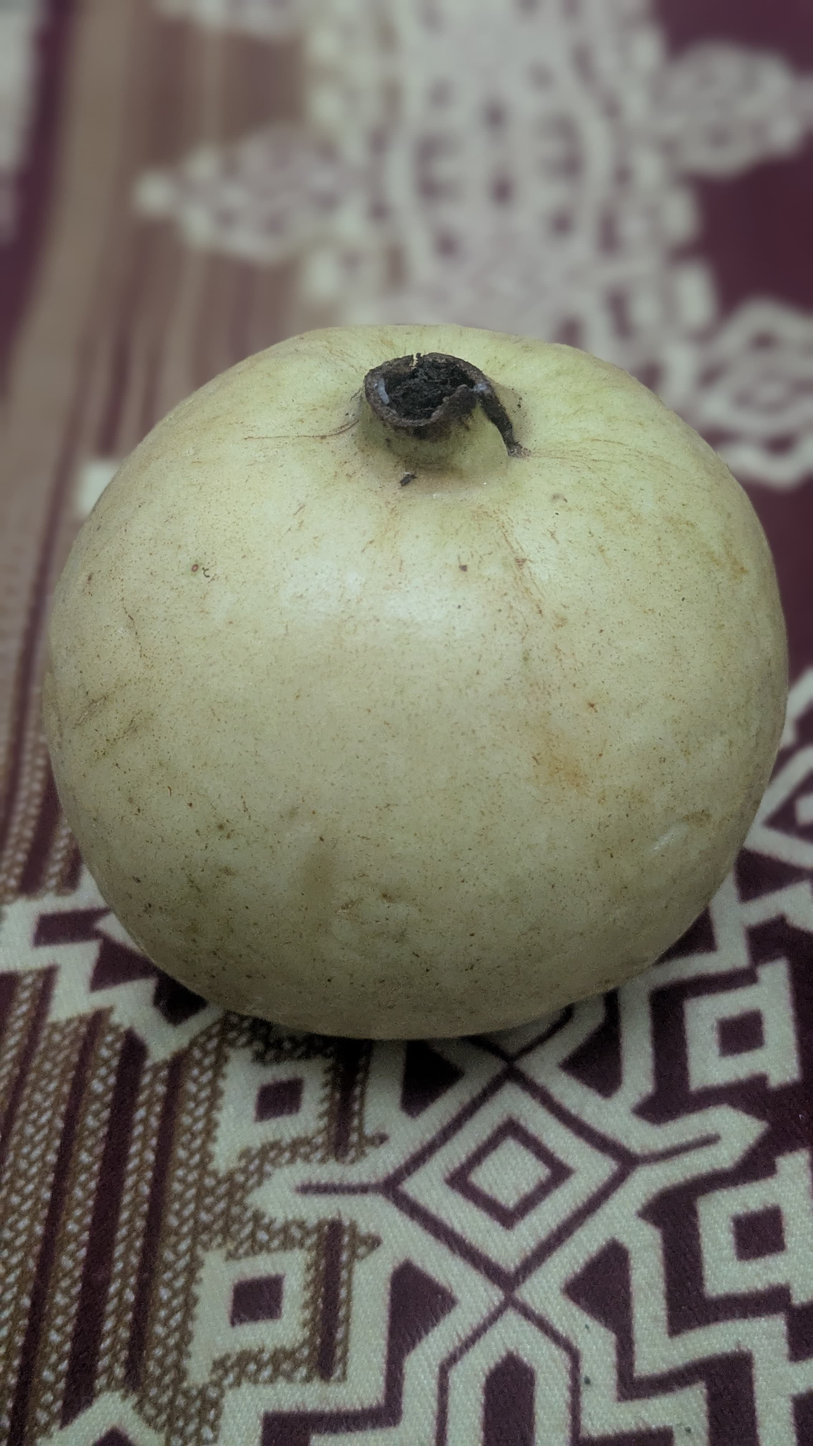guava: (70, 127, 587, 1104)
